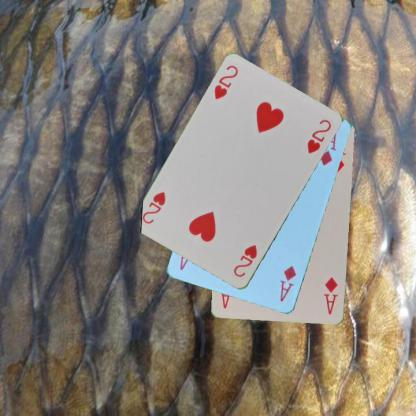2h: (211, 63, 240, 101), (230, 243, 259, 279)
Ad: (277, 263, 298, 303), (321, 274, 339, 316)
